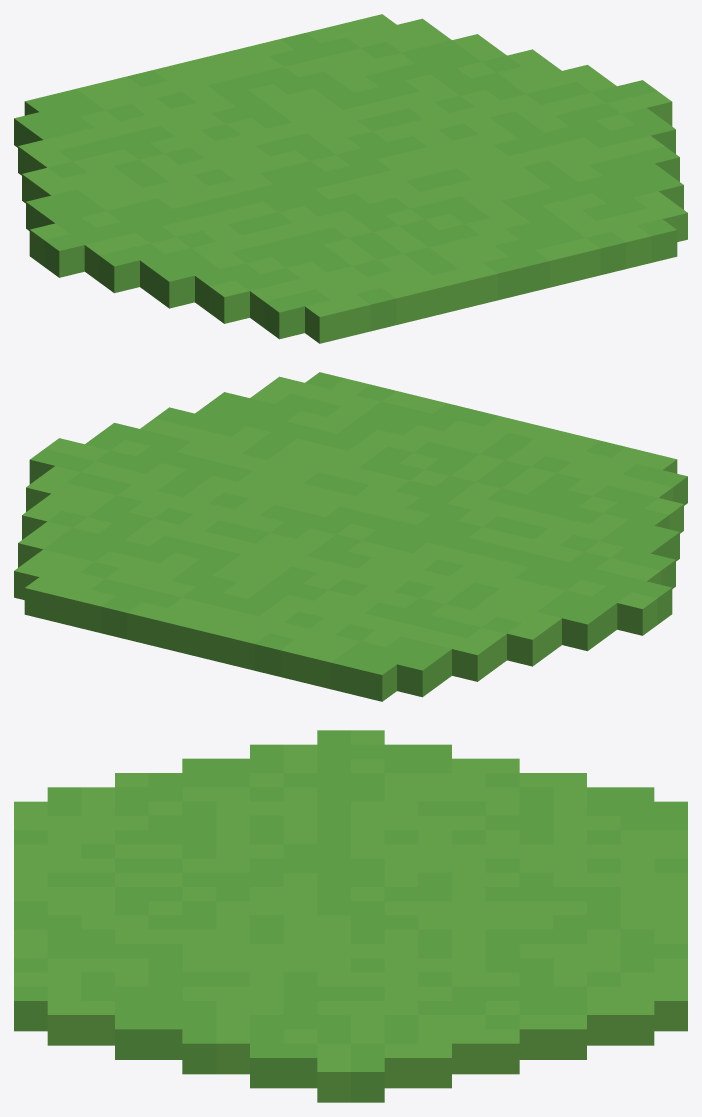
Rendered from overworld-43-grassland_1px.obj.
The picture shows the model from 3 angles, top to bottom: view 1: azimuth 30°, elevation 25°; view 2: azimuth 150°, elevation 25°; view 3: azimuth 270°, elevation 25°; orthographic projection. The views are drawn at different scales.
Visible parts, largest first — view 1: grassland_1px; view 2: grassland_1px; view 3: grassland_1px.
Part boxes in pixels (x1,y1,x2,y2): grassland_1px: (14,14,687,343); grassland_1px: (14,372,687,701); grassland_1px: (14,730,687,1102).
Size of the model in its own units: 2.4 by 0.1 by 2.
Materials: 1 (1 with a texture image).
